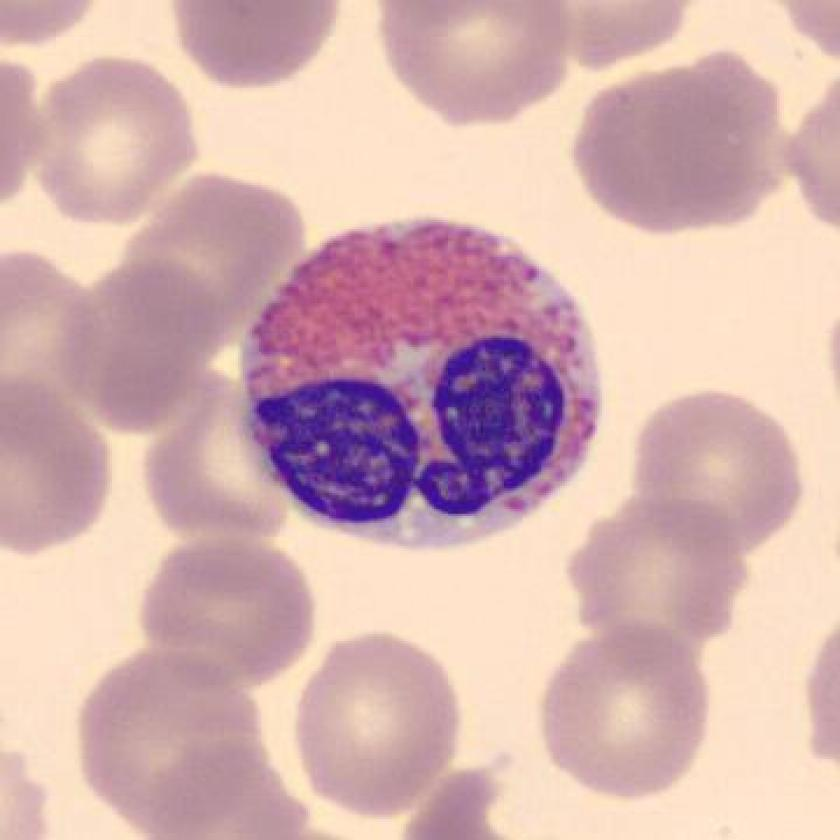eosinophil: (230, 203, 610, 571)
